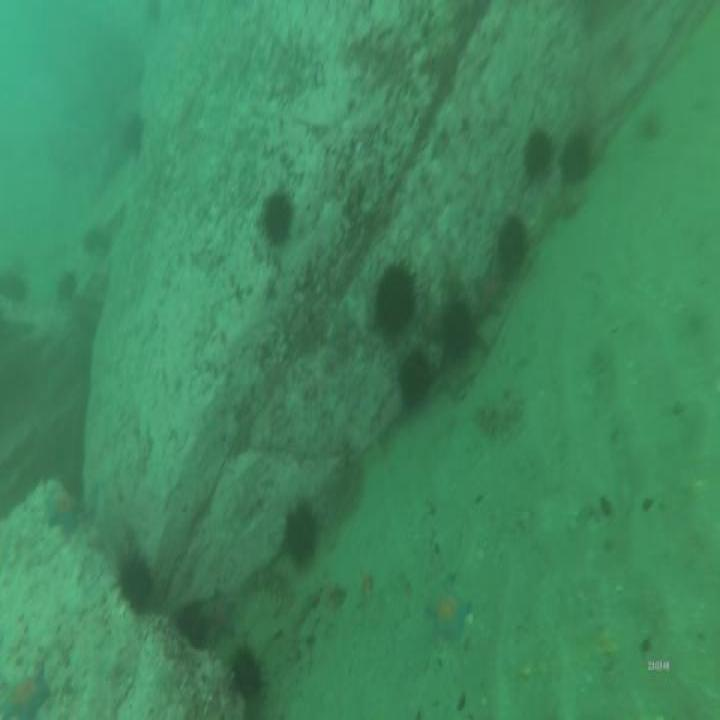echinus: (376, 263, 419, 331), (395, 354, 426, 409), (231, 647, 265, 697), (442, 300, 474, 352), (560, 133, 587, 187), (288, 510, 316, 562), (498, 222, 526, 274), (264, 196, 291, 246), (122, 564, 149, 610), (526, 128, 551, 172), (180, 604, 207, 644)
holothurian: (475, 394, 523, 436)
starfish: (426, 587, 470, 640), (2, 682, 48, 720), (475, 265, 507, 318), (440, 252, 467, 298), (48, 494, 82, 526)
